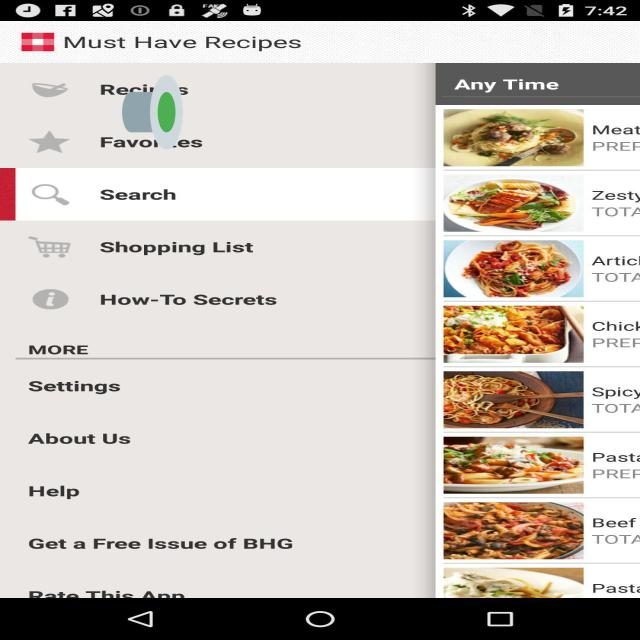social proof: (122, 43, 183, 181)
